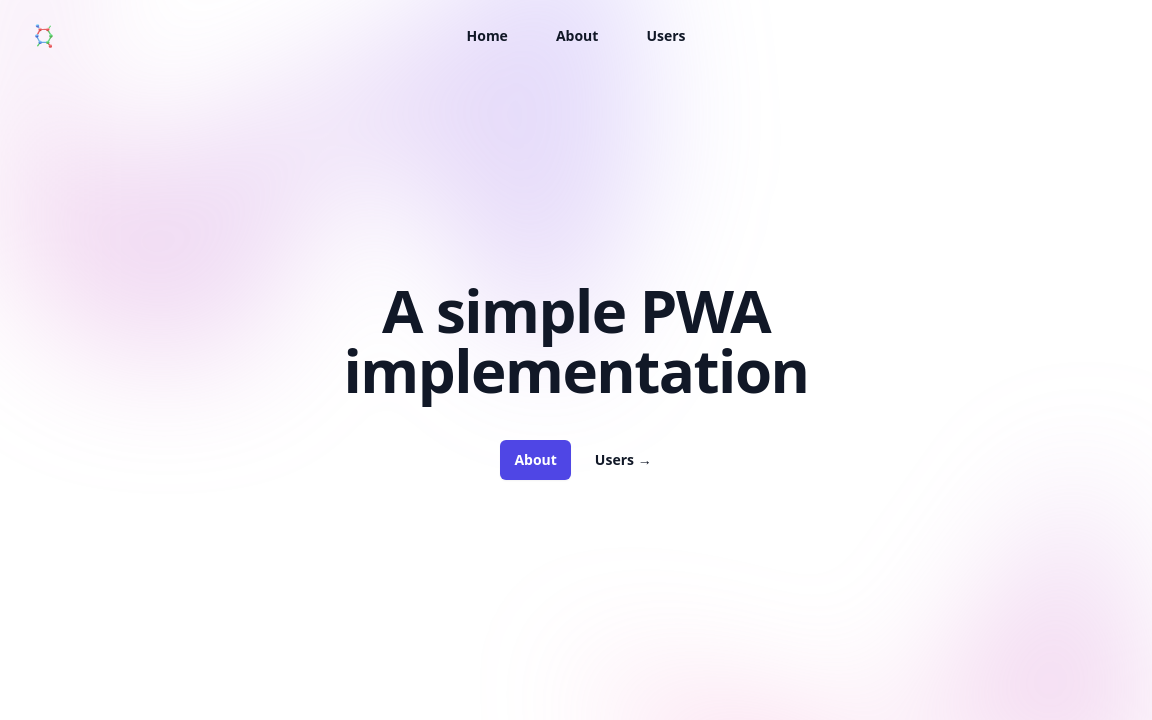
Test: App Main Component › navigate through various pages
# Simulate click on the about link
Step 1. Click the link "About" next to "Home" → (577, 36), box [556, 24, 598, 48]
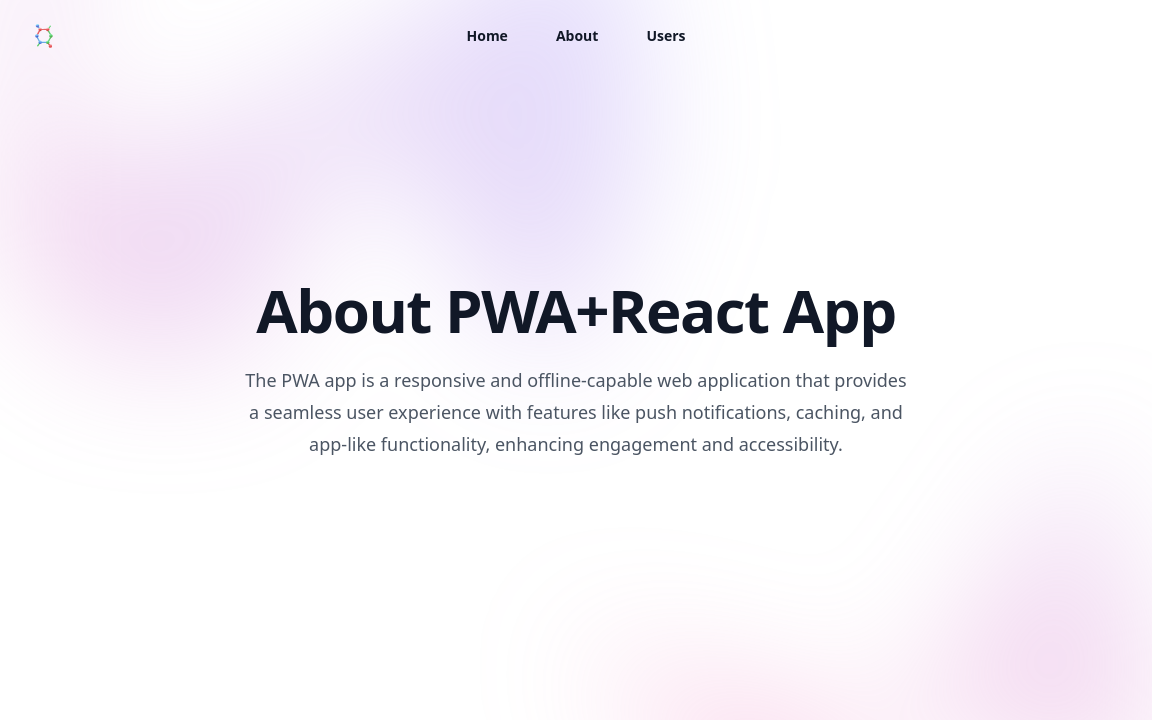
Step 2. Click the link "Users" → (666, 36), box [646, 24, 686, 48]
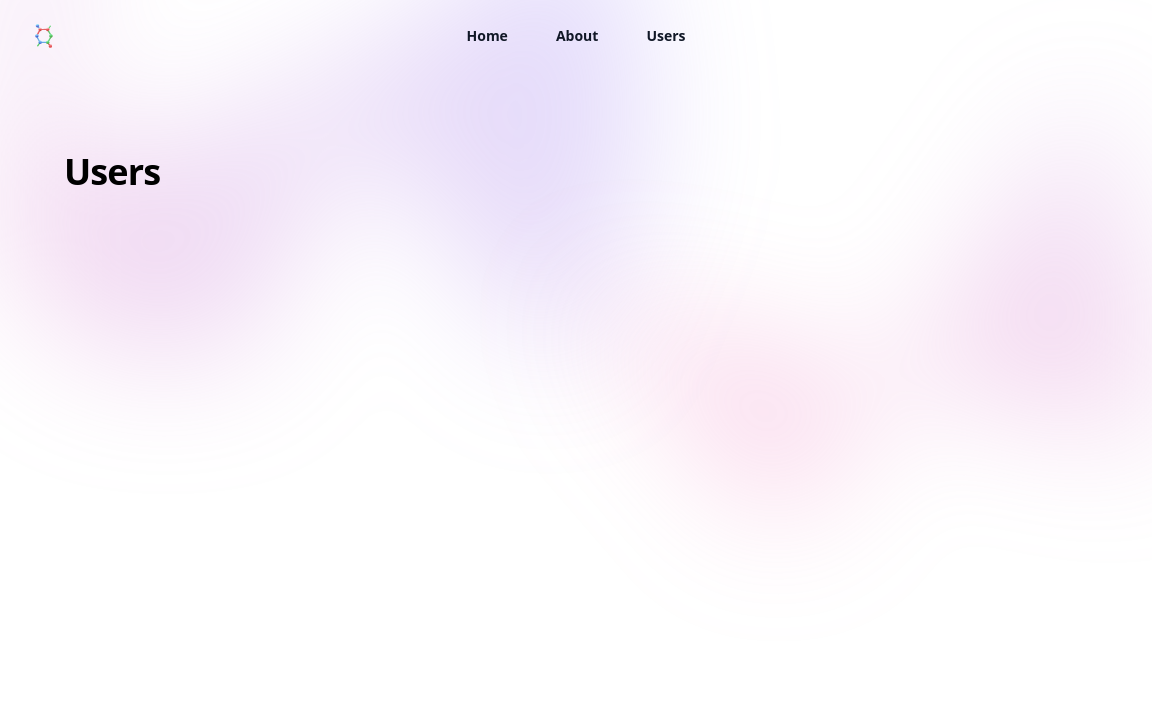
Now the heading "Users" is shown, box [64, 147, 160, 196]
Step 3. Click the link "Home" → (487, 36), box [466, 24, 508, 48]
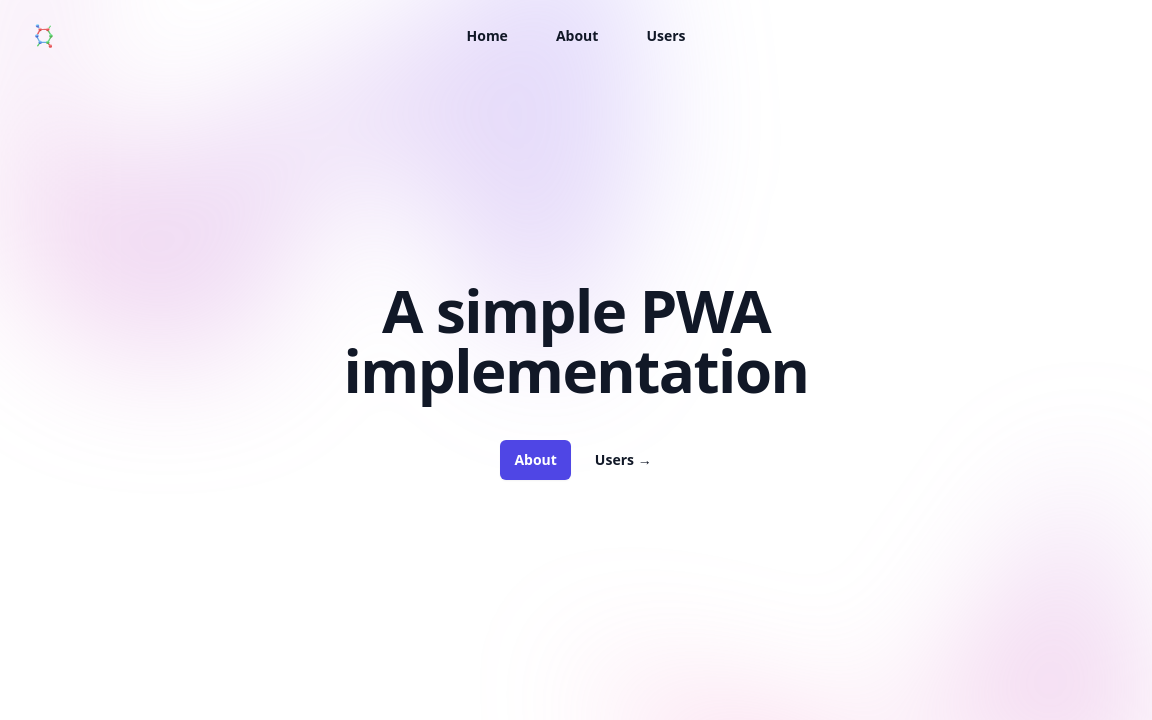
Now the heading "A simple PWA implementation" is shown, box [344, 269, 808, 411]
